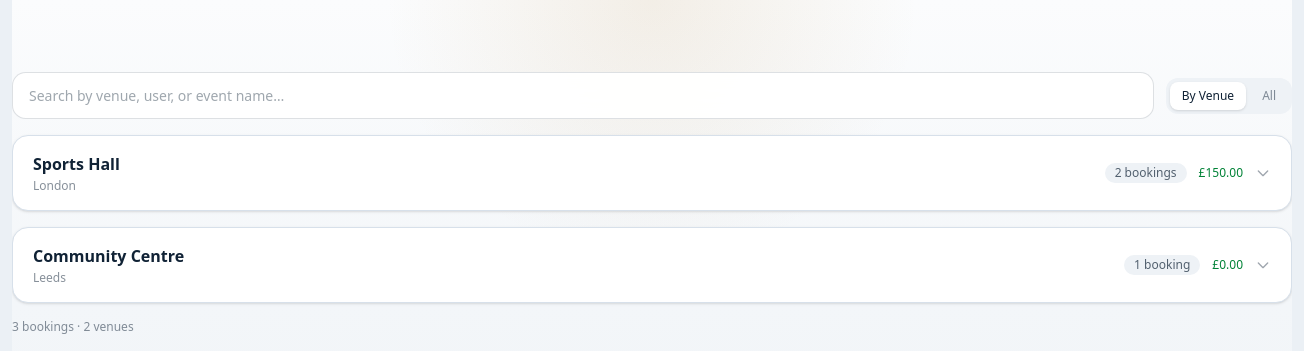
it: VenuesTab › filters bookings by search term across venue, user, and event name
Type "workshop" into the field with placeholder "Search by venue, user, or event name…" at (583, 96), box [12,72,1154,119]
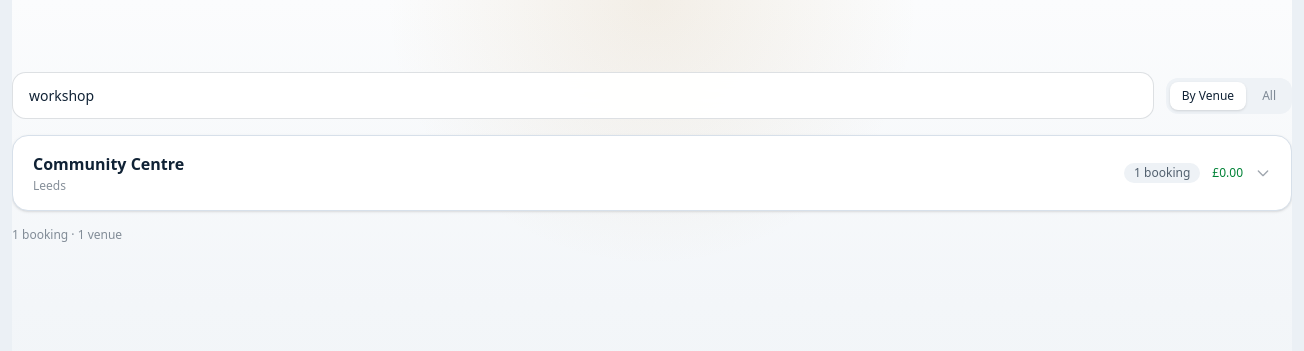
expect the text "Community Centre" is shown: met, box [33,152,184,176]
expect the button "Sports Hall" is gone: met
